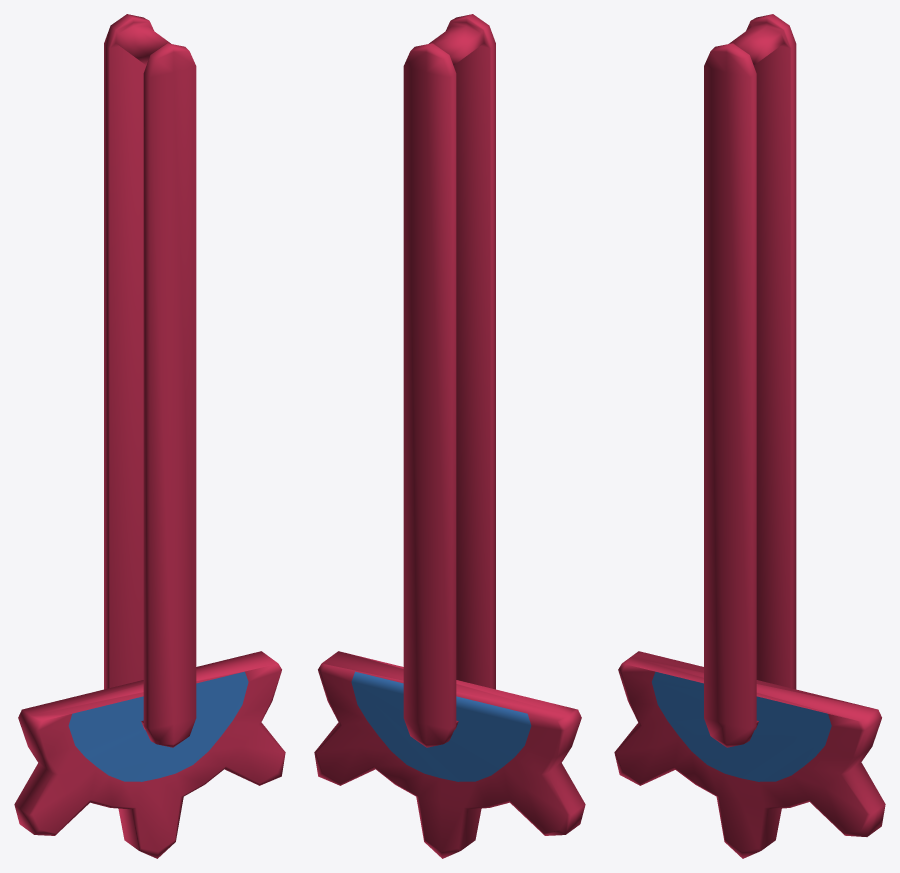
The model's file is Swinging_Saw.fbx.
The picture shows the model from 3 angles, left to right: view 1: azimuth 30°, elevation 25°; view 2: azimuth 150°, elevation 25°; view 3: azimuth 330°, elevation 25°; orthographic projection.
Visible parts, largest first — view 1: swinging saw; view 2: swinging saw; view 3: swinging saw.
Part boxes in pixels (left/top/right/bottom): swinging saw: left=14, top=14, right=285, bottom=858; swinging saw: left=314, top=14, right=585, bottom=858; swinging saw: left=614, top=14, right=885, bottom=858.
Size of the model in its own units: 125 by 383 by 40.16.
